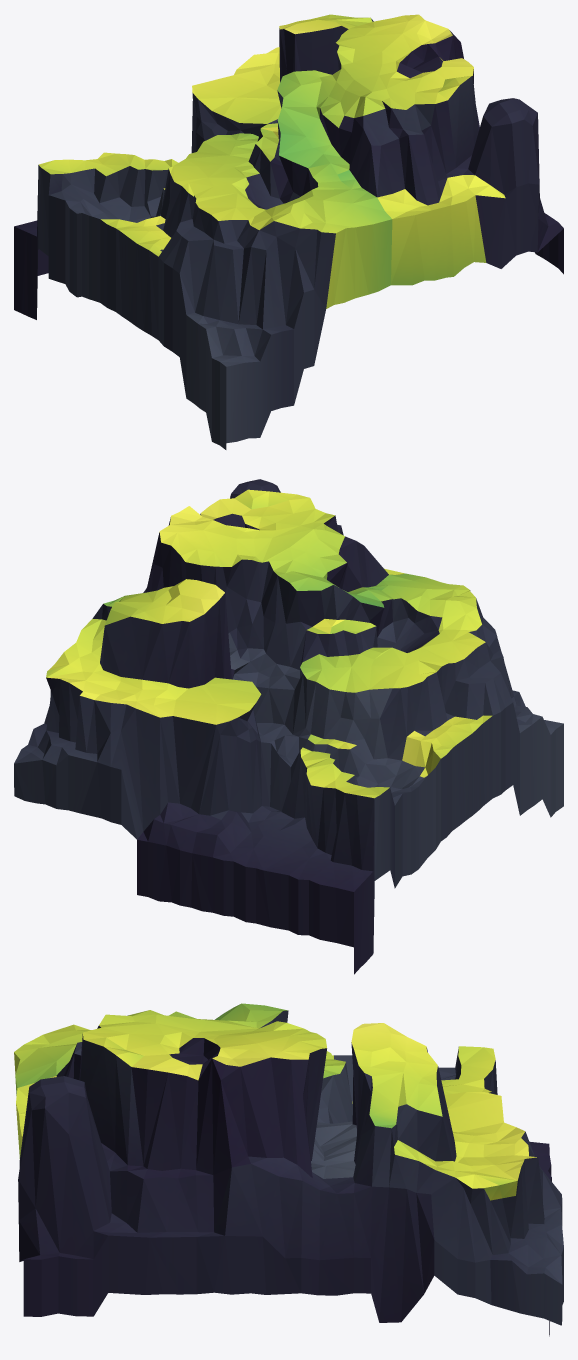
File: Terrain_Mountains.fbx
3 renders of one model, top to bottom at view 1: azimuth 30°, elevation 25°; view 2: azimuth 150°, elevation 25°; view 3: azimuth 270°, elevation 25°, orthographic. The views are drawn at different scales.
Visible parts, largest first — view 1: Mountains; view 2: Mountains; view 3: Mountains.
Part boxes in pixels (<box>): Mountains: <box>14,14,563,449</box>; Mountains: <box>14,479,563,974</box>; Mountains: <box>14,1003,563,1336</box>.
Bounding box in the file's own units: 9320 × 7750 × 10396.
Materials: 2 (2 with a texture image).
